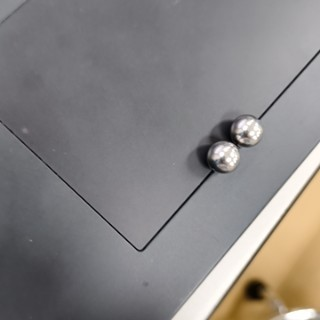ironball: (222, 107, 270, 157), (199, 136, 238, 187)
